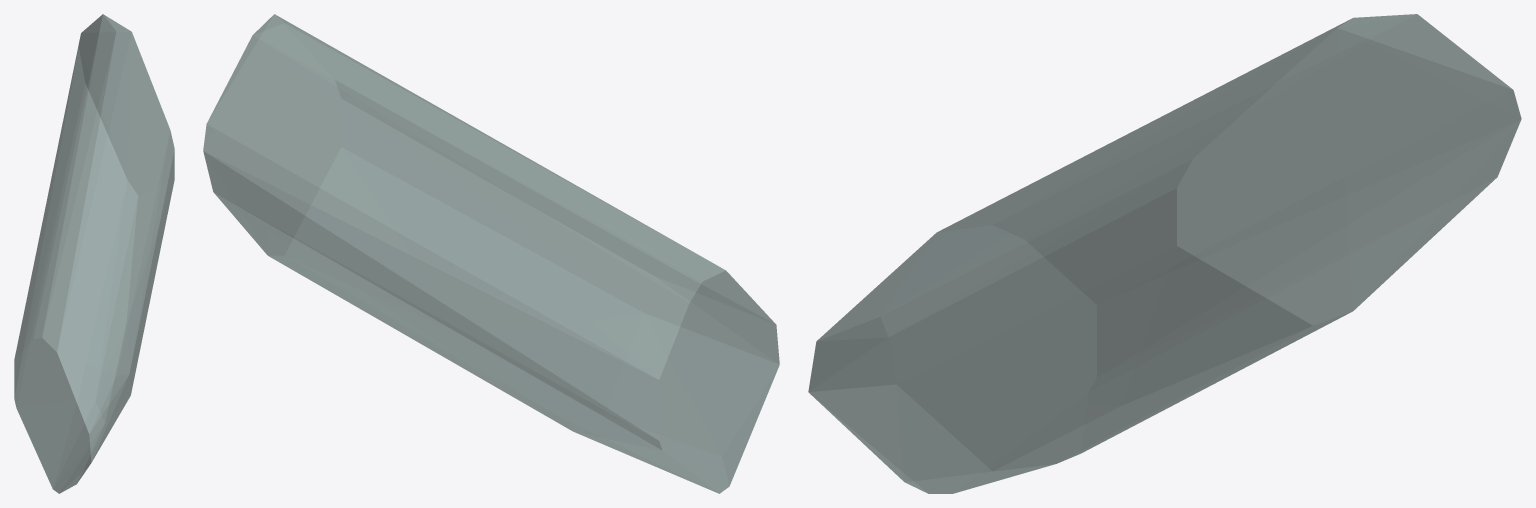
The picture shows the model from 3 angles, left to right: view 1: azimuth 30°, elevation 25°; view 2: azimuth 150°, elevation 25°; view 3: azimuth 270°, elevation 25°; orthographic projection. The views are drawn at different scales.
Parts seen in each view (by area): view 1: Shape_IndexedFaceSet.010_Shape_IndexedFaceSet.16461; view 2: Shape_IndexedFaceSet.010_Shape_IndexedFaceSet.16461; view 3: Shape_IndexedFaceSet.010_Shape_IndexedFaceSet.16461.
Boxes of the visible parts, bbox=[...] form: Shape_IndexedFaceSet.010_Shape_IndexedFaceSet.16461: bbox=[14, 14, 174, 493]; Shape_IndexedFaceSet.010_Shape_IndexedFaceSet.16461: bbox=[203, 14, 779, 493]; Shape_IndexedFaceSet.010_Shape_IndexedFaceSet.16461: bbox=[808, 14, 1521, 493].
Bounding box in the file's own units: 0.1117 × 0.2006 × 0.2029.
